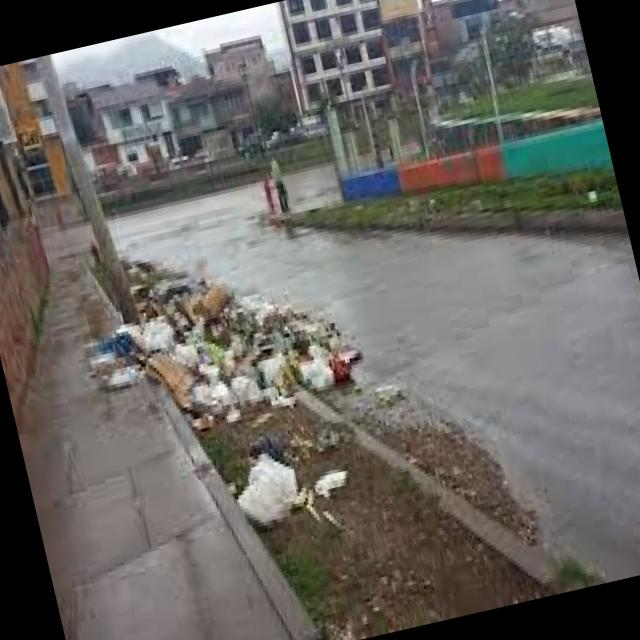garbage: (72, 240, 385, 550)
